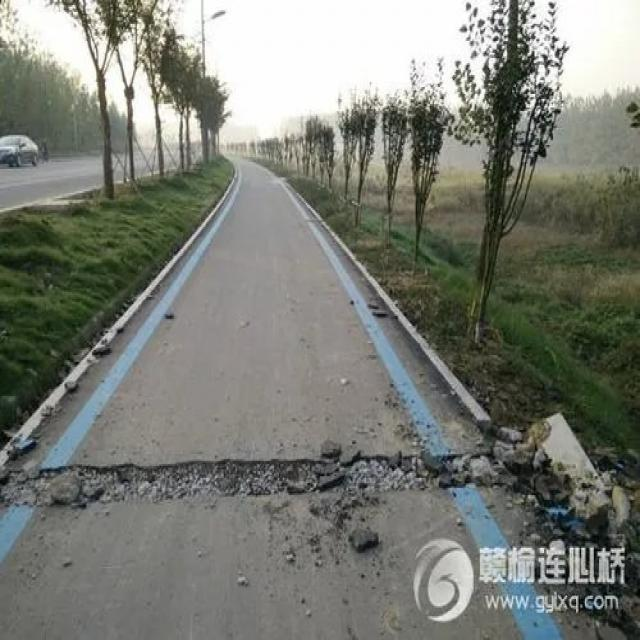Pothole: (19, 459, 511, 498)
